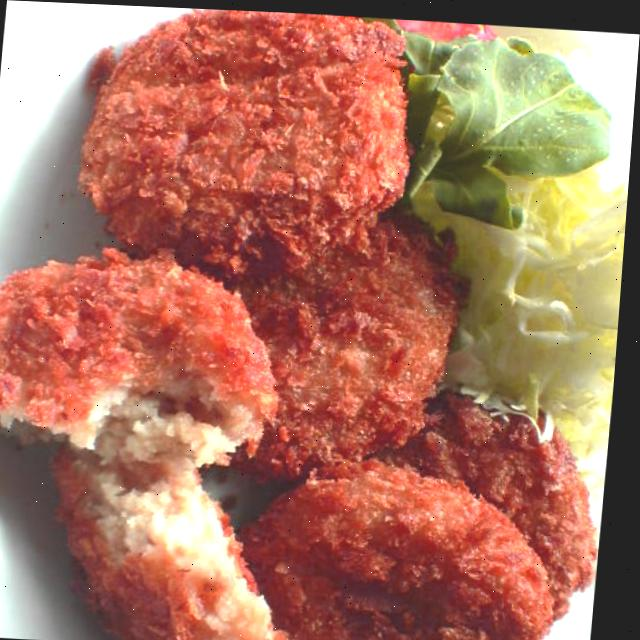炸货点心: (2, 1, 640, 640)
